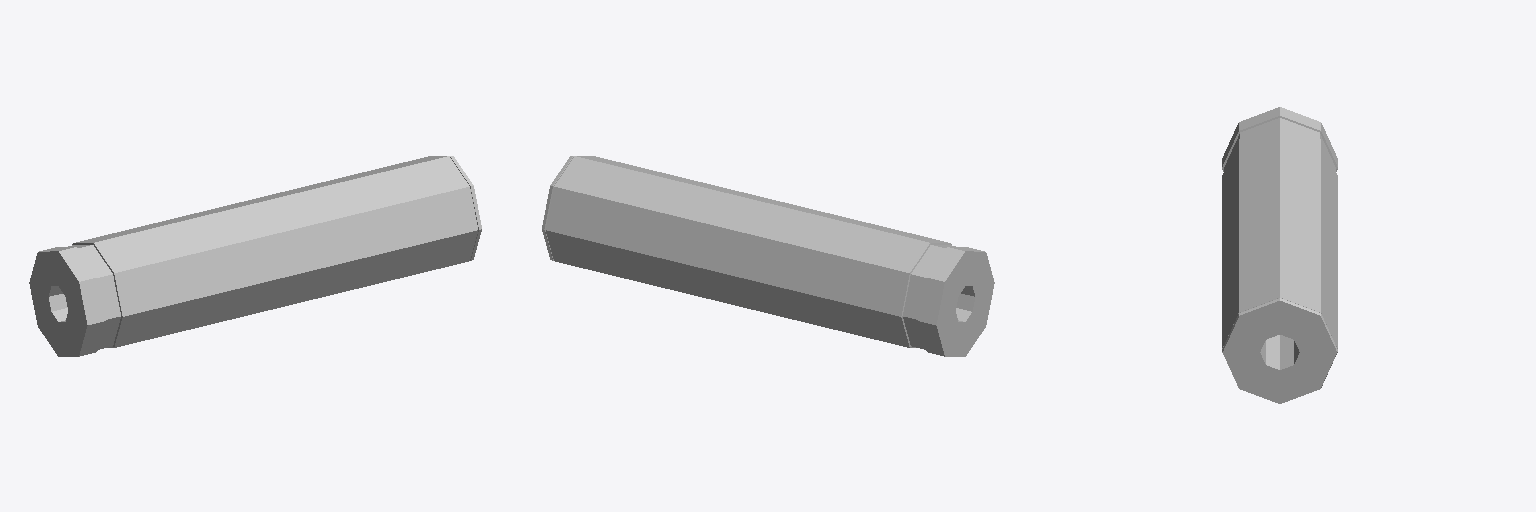
The model's file is 762silencer.obj.
3 views of the same model, side by side, from view 1: azimuth 30°, elevation 25°; view 2: azimuth 150°, elevation 25°; view 3: azimuth 270°, elevation 25° (orthographic).
Visible parts, largest first — view 1: attachmentModel; view 2: attachmentModel; view 3: attachmentModel.
Part boxes in pixels (left/top/right/bottom): attachmentModel: left=29, top=156, right=481, bottom=356; attachmentModel: left=542, top=156, right=994, bottom=356; attachmentModel: left=1222, top=107, right=1337, bottom=403.
Bounding box in the file's own units: 6.32 × 1.62 × 1.62.